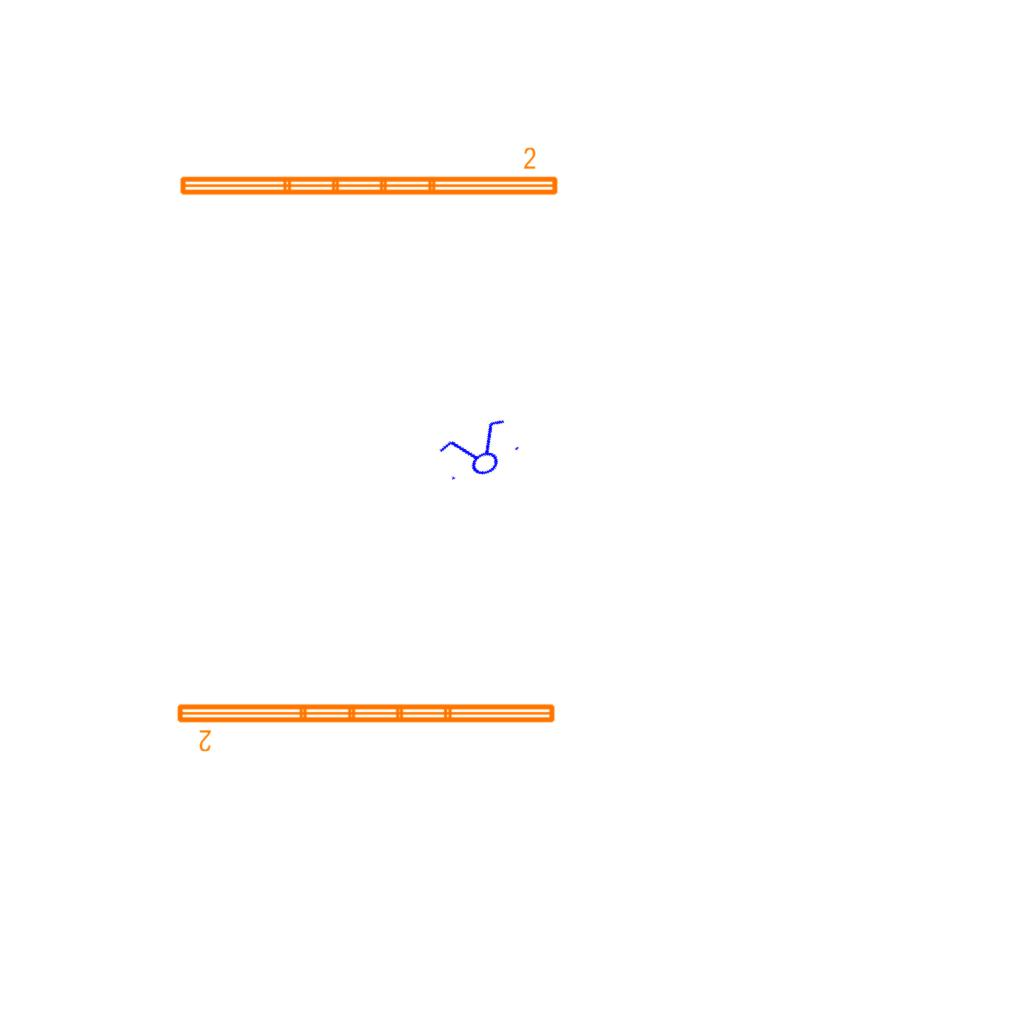Ambulanz_Pendelleuchte_LED: (173, 698, 560, 754), (175, 145, 562, 201)
Serienschalter: (430, 412, 528, 492)
